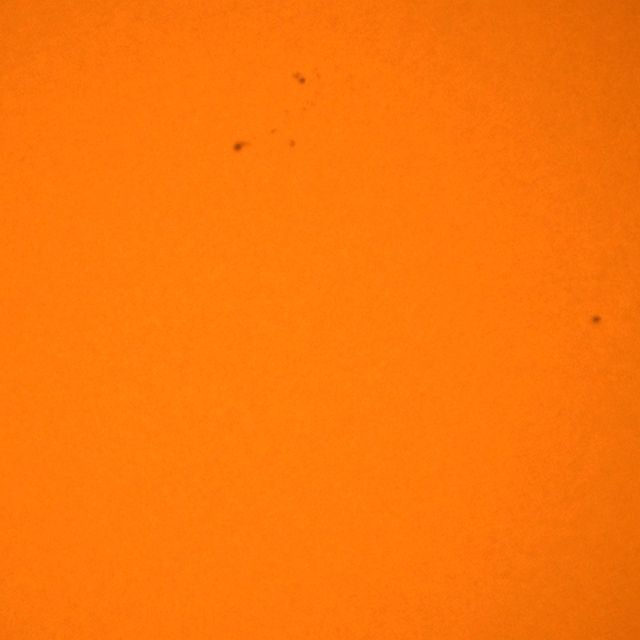sunspot: (291, 70, 308, 86), (231, 139, 249, 154), (302, 99, 315, 112), (590, 314, 604, 326), (288, 137, 298, 150), (269, 127, 278, 135)
